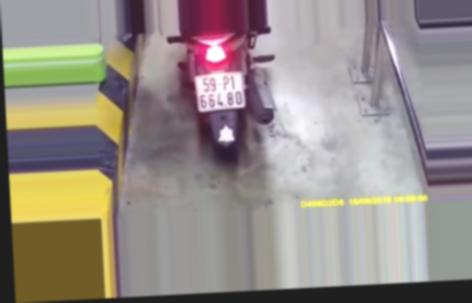License_Plate: (189, 69, 250, 114)
